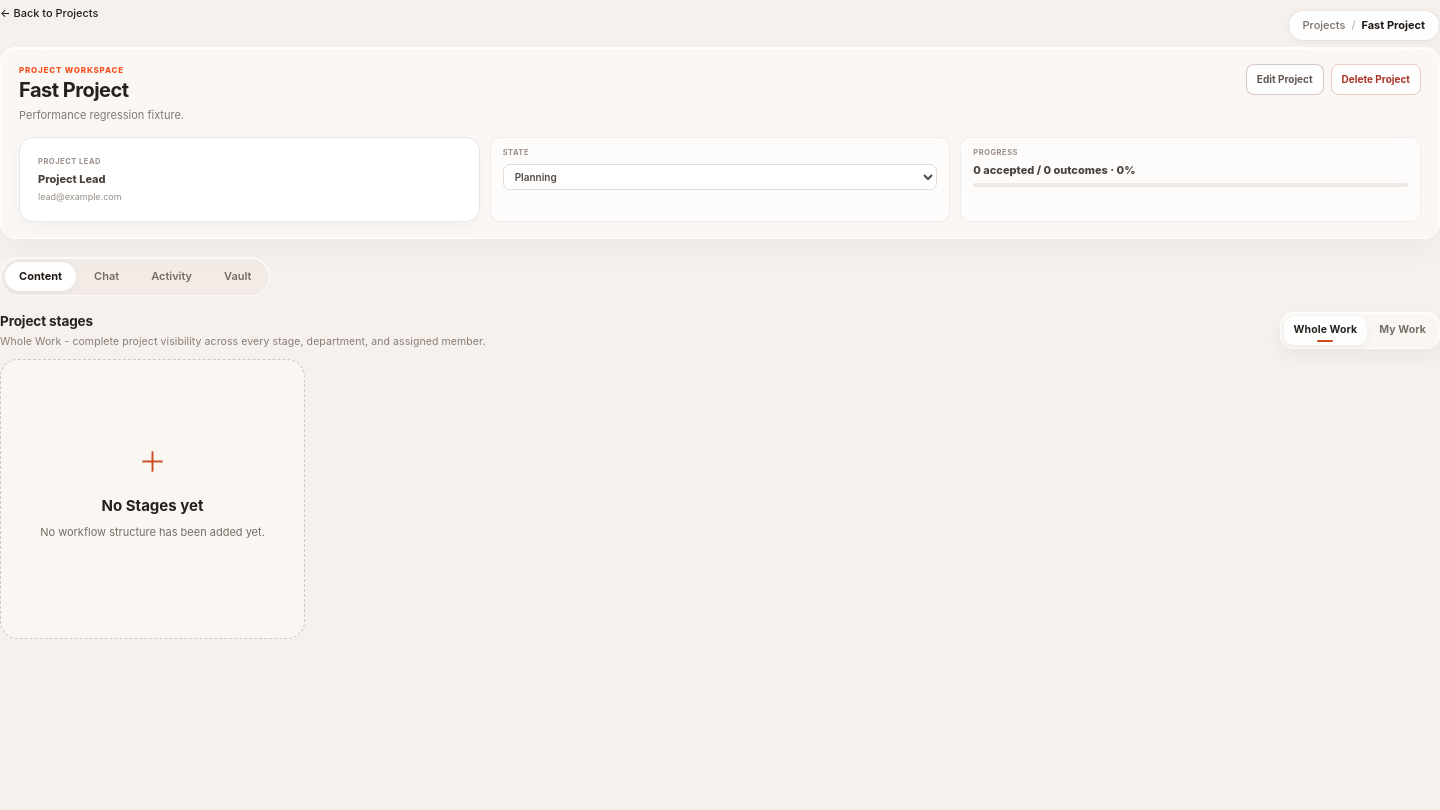
Test: ProjectOverviewPage status mutation › edits the Project name and description in a modal
Click the button "Edit Project" at (1285, 79), box 1246,64 -> 1324,94
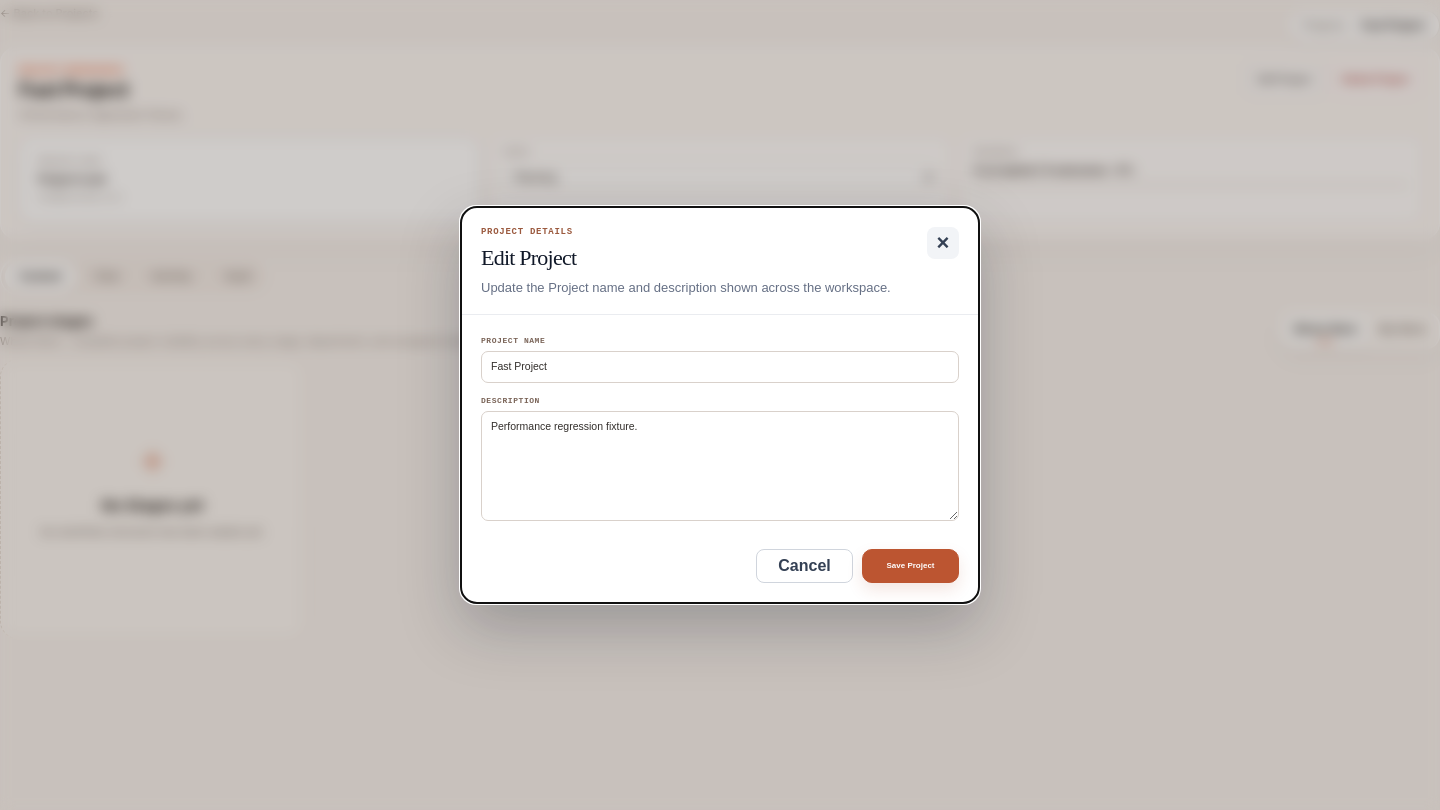
Replace the text in the field labelled "Project name" with "Renamed Project" at (720, 367), box 481,351 -> 959,383
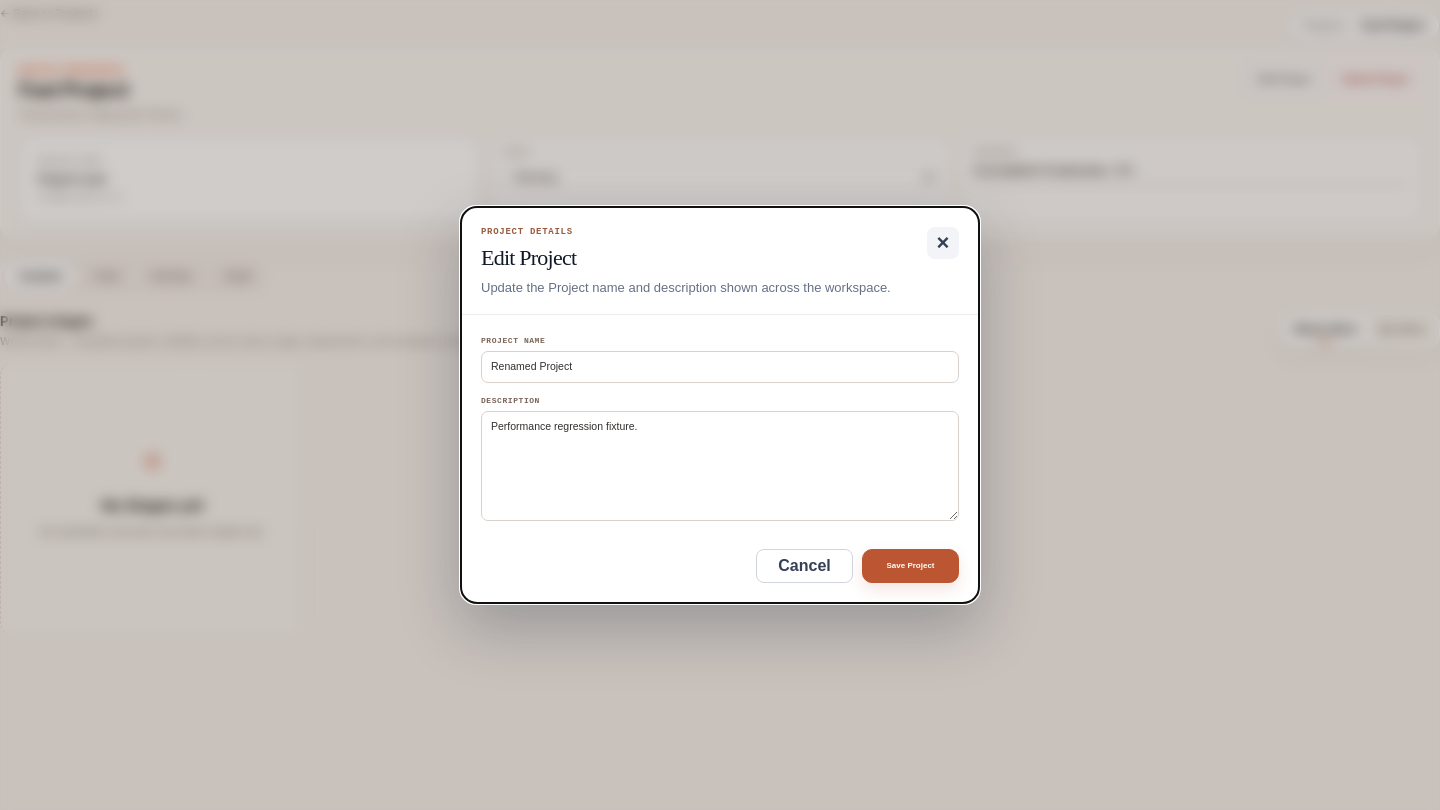
Replace the text in the text box labelled "Description" with "Updated project description." at (720, 466), box 481,410 -> 959,520
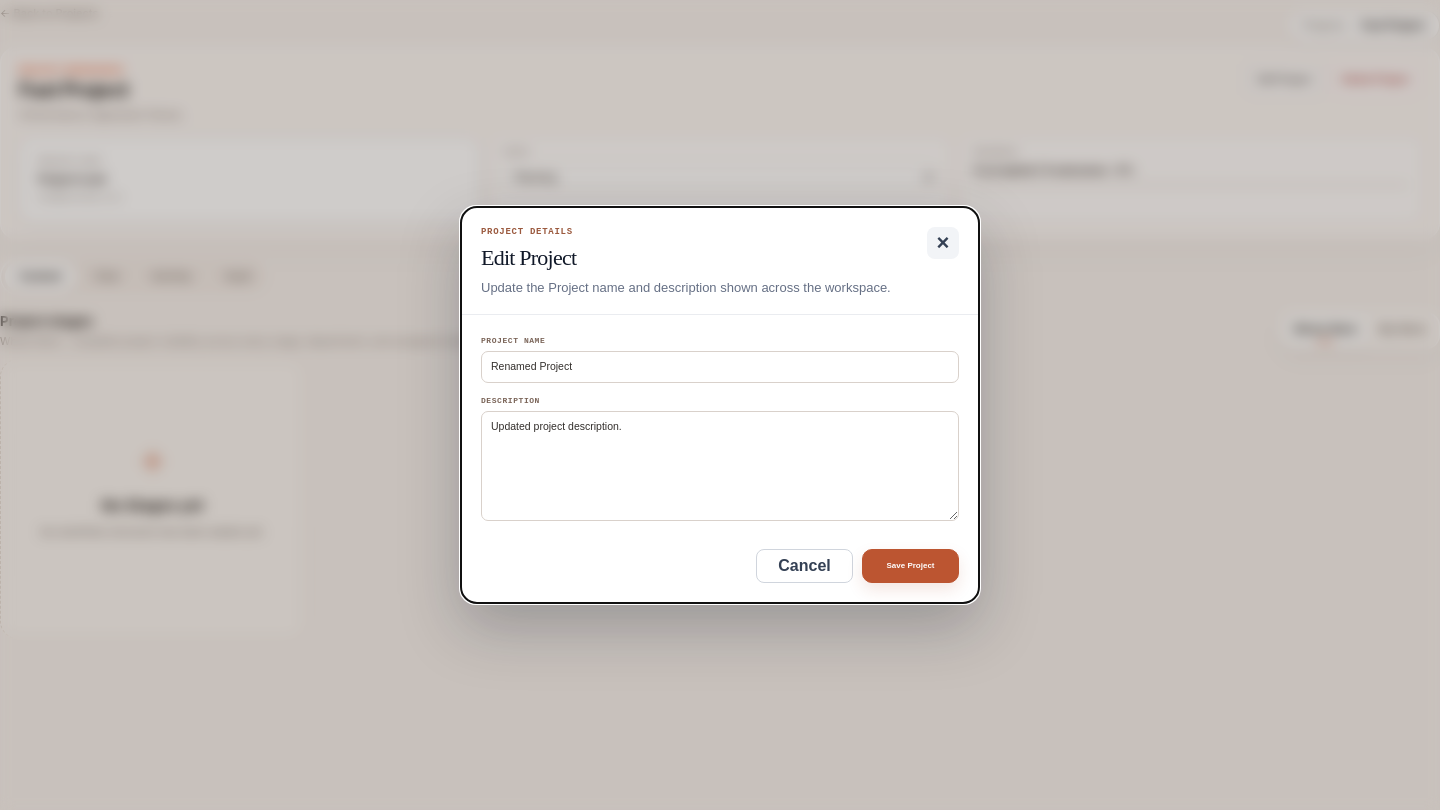
Click the button "Save Project" at (910, 566), box 862,548 -> 959,582
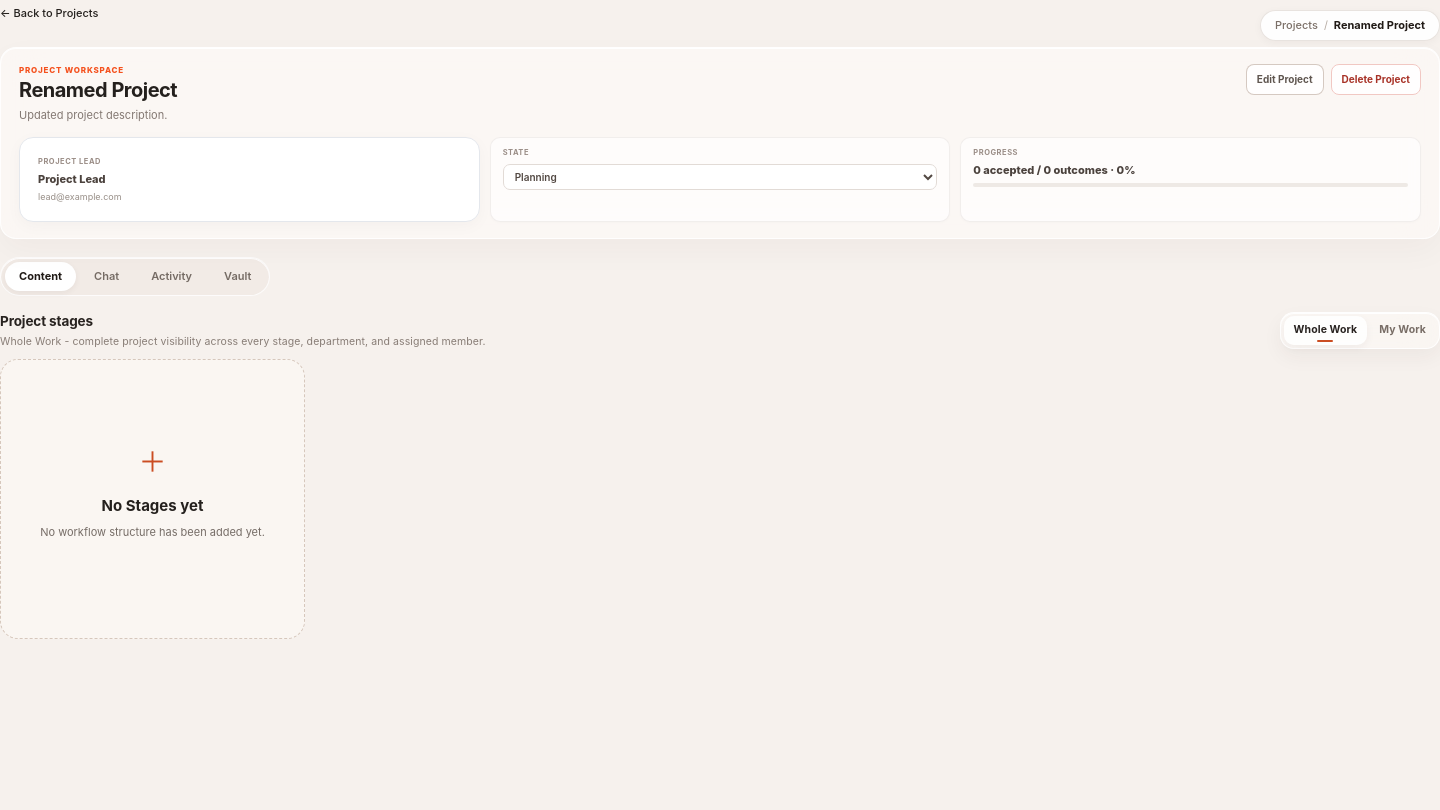
Result: the heading "Renamed Project" is shown at 19,78 -> 177,102
Result: the text "Updated project description." is shown at 19,108 -> 167,122
